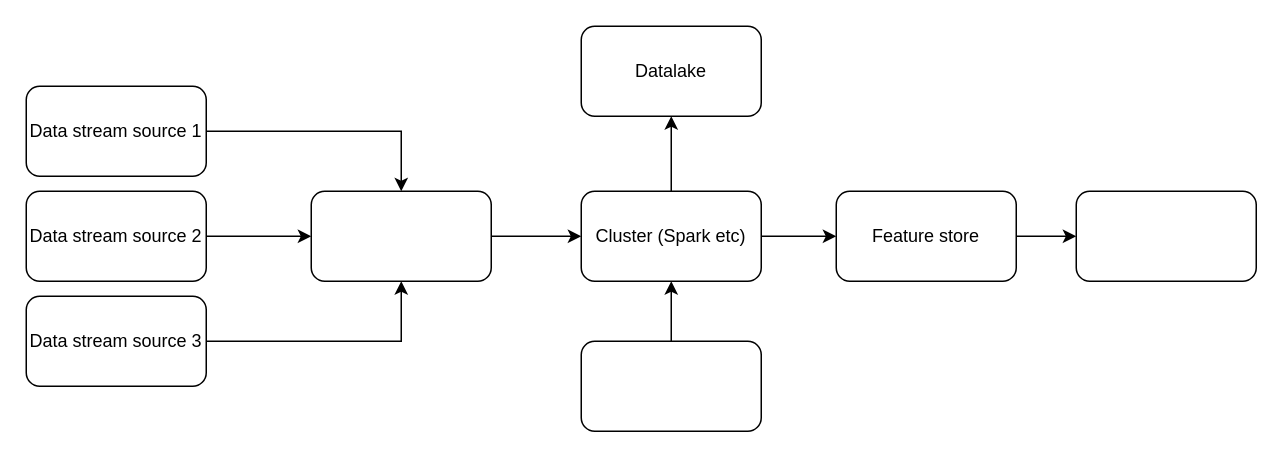
The diagram is 1283 pixels wide and 458 high, and some of its shapes have lost their labels. The box of each missing label's shape, as (x1, y1, x2, y2) in pixels:
Neural Network: (580, 340, 761, 431)
Predictions consumer: (1075, 190, 1256, 281)
Queue: (310, 190, 491, 281)
